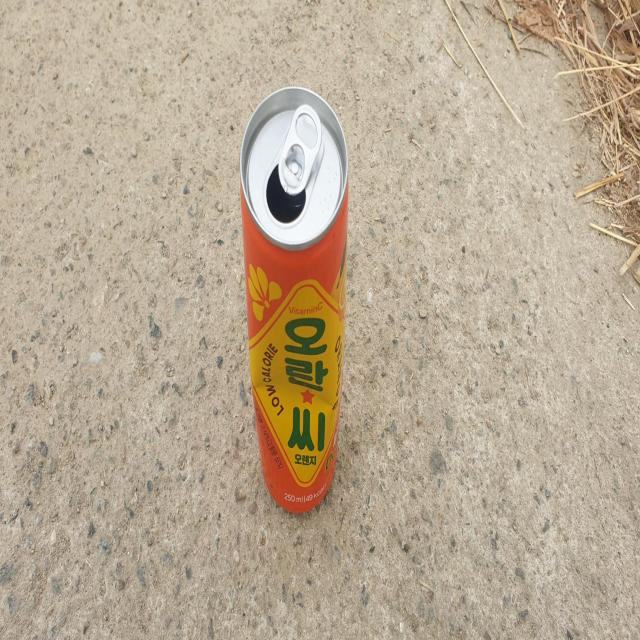can: (240, 85, 348, 512)
